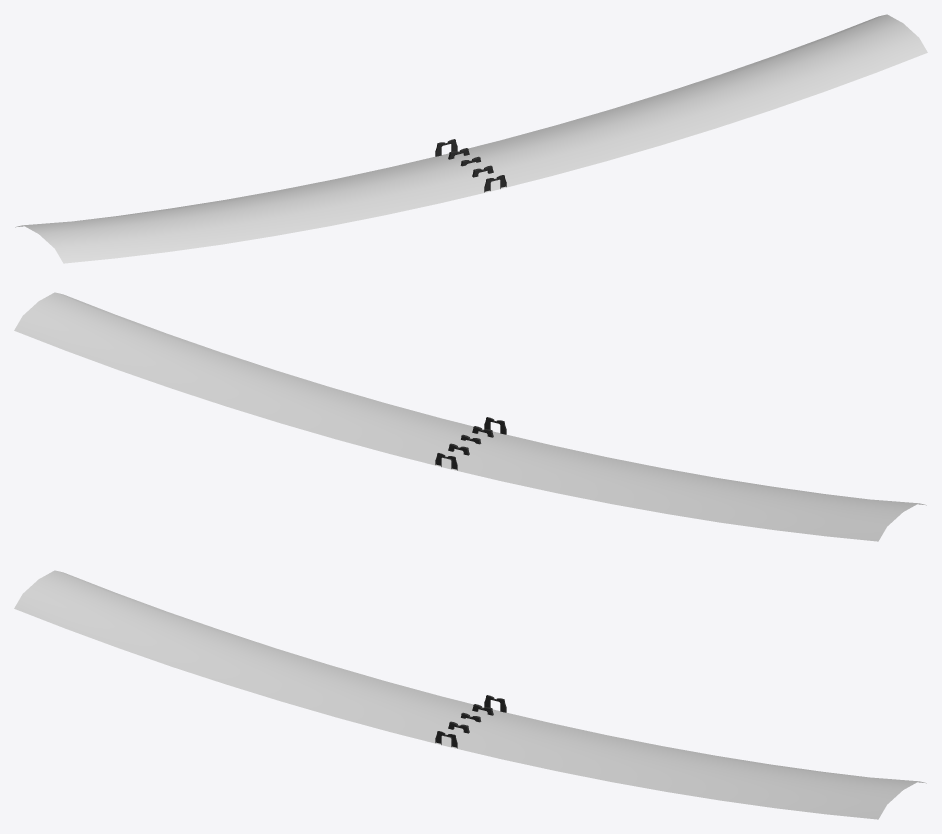
Rendered from flat_bridge.FBX.
3 renders of one model, top to bottom at view 1: azimuth 30°, elevation 25°; view 2: azimuth 150°, elevation 25°; view 3: azimuth 330°, elevation 25°, orthographic.
Parts seen in each view (by area): view 1: Plane031, Object014; view 2: Plane031, Object014; view 3: Plane031, Object014.
Boxes of the visible parts, box(x1,y1,x2,y2) form: Plane031: box(15, 14, 927, 263); Object014: box(435, 139, 506, 192); Plane031: box(14, 292, 926, 541); Object014: box(435, 417, 506, 470); Plane031: box(14, 570, 926, 819); Object014: box(435, 695, 506, 748).
Size of the model in its own units: 128985 by 6220 by 12865.
